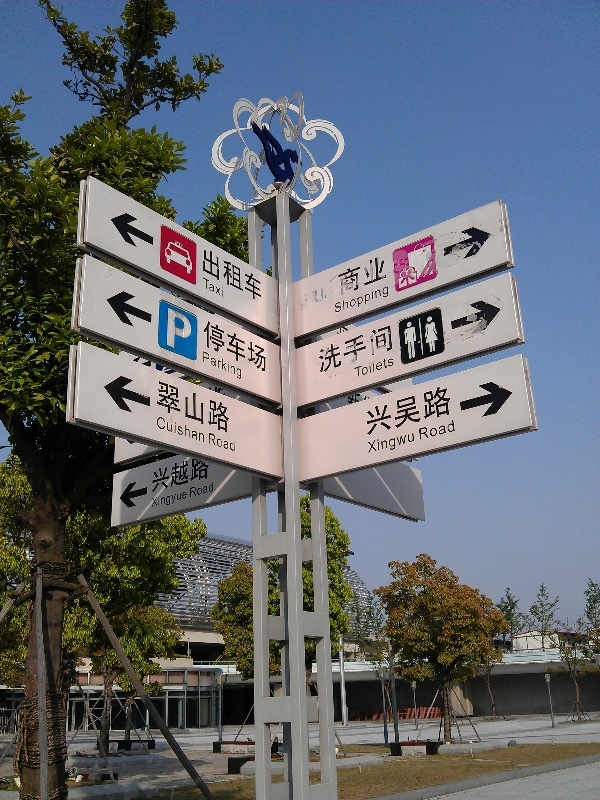text: (209, 246, 224, 304), (225, 246, 240, 304), (241, 246, 256, 304), (161, 379, 176, 435), (177, 379, 192, 435), (193, 379, 208, 435), (209, 379, 224, 435), (209, 319, 224, 374), (225, 319, 240, 374), (241, 319, 256, 374), (369, 384, 384, 438), (385, 384, 400, 438), (401, 384, 416, 438), (417, 384, 432, 438), (433, 384, 448, 438), (177, 308, 193, 356), (321, 324, 336, 375), (337, 324, 352, 375), (353, 324, 368, 375), (369, 324, 384, 375), (337, 254, 352, 298), (353, 254, 368, 298), (369, 254, 384, 298), (161, 452, 176, 494), (177, 452, 192, 494), (193, 452, 208, 494), (257, 319, 267, 374), (337, 283, 352, 317), (353, 283, 368, 317), (369, 283, 384, 317), (209, 350, 224, 381), (225, 350, 240, 381), (385, 324, 394, 375), (161, 415, 176, 444), (177, 415, 192, 444), (401, 430, 417, 457), (369, 430, 384, 457), (385, 430, 400, 457), (168, 308, 176, 356), (151, 452, 160, 494), (369, 355, 384, 379), (193, 415, 205, 444), (417, 419, 432, 442), (433, 419, 448, 442), (354, 355, 368, 379), (209, 276, 224, 298), (161, 489, 176, 510), (209, 433, 224, 453), (203, 246, 208, 304), (257, 246, 262, 304), (225, 379, 230, 435), (363, 384, 368, 438), (449, 384, 454, 438), (385, 355, 395, 379), (225, 433, 237, 453), (193, 482, 208, 498), (177, 489, 188, 510), (204, 319, 208, 374), (353, 393, 368, 406), (449, 419, 457, 442), (152, 489, 160, 510), (203, 350, 208, 381), (385, 283, 389, 317), (385, 254, 388, 298), (211, 386, 224, 396), (337, 327, 352, 335), (158, 379, 160, 435), (203, 276, 208, 298), (318, 324, 320, 375), (209, 482, 215, 498), (157, 415, 160, 444), (209, 452, 211, 494), (347, 393, 352, 406), (177, 241, 184, 249), (189, 482, 192, 498), (335, 283, 336, 317), (241, 350, 242, 381), (367, 430, 368, 457), (369, 393, 371, 406), (225, 386, 226, 396)
